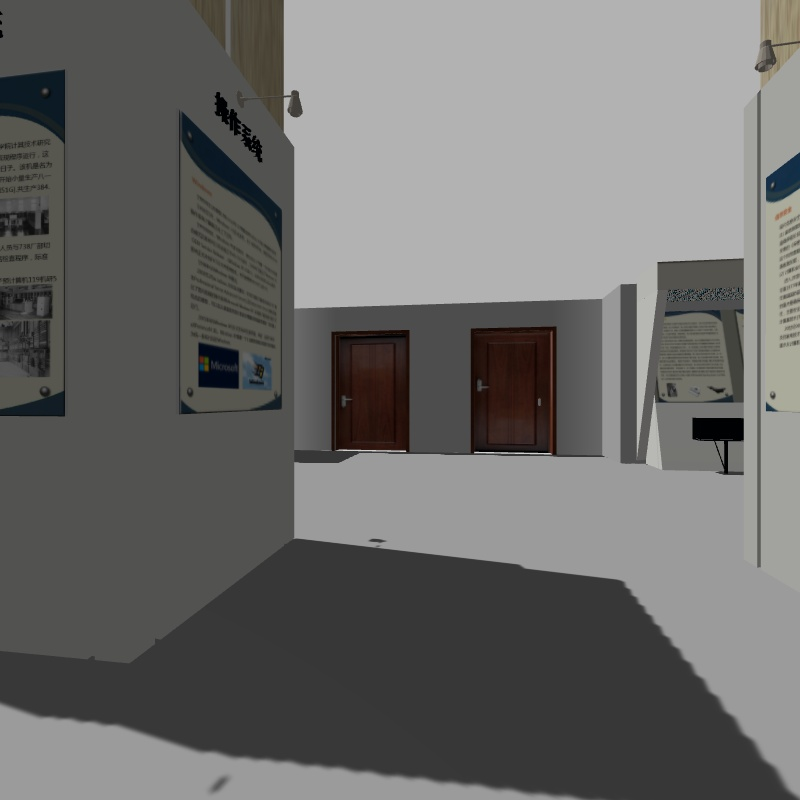handle: (469, 376, 489, 393), (333, 391, 352, 408)
